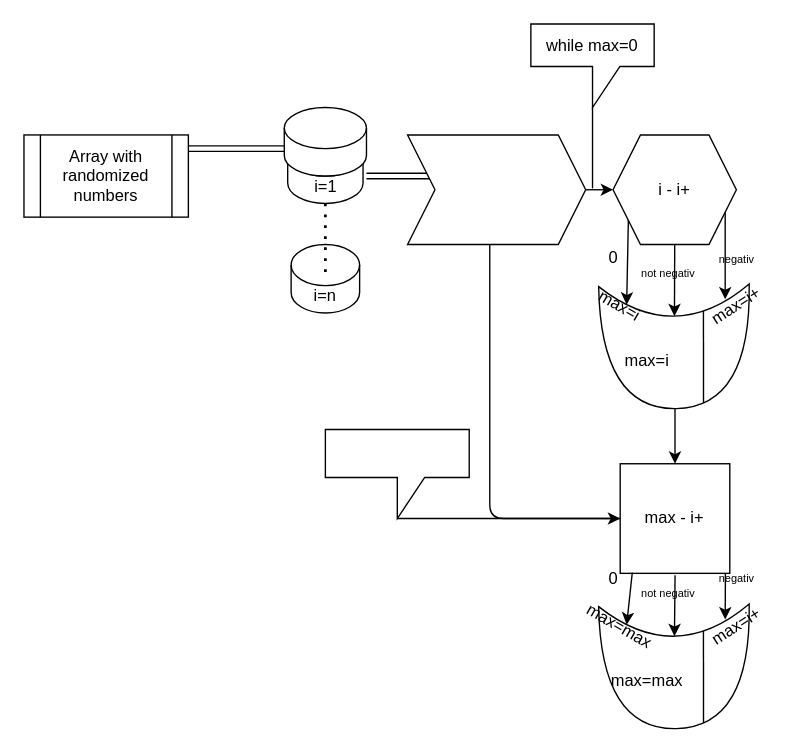
This 788x755 diagram has some shape labels left out. The shapes that lost their labels are listed below. From the top down, each one's centre as x and y in pixels, then its label:
At [324,141]: "i=0".
At [496,189]: "get contents of i and i+".
At [396,473]: "while max != 0".
